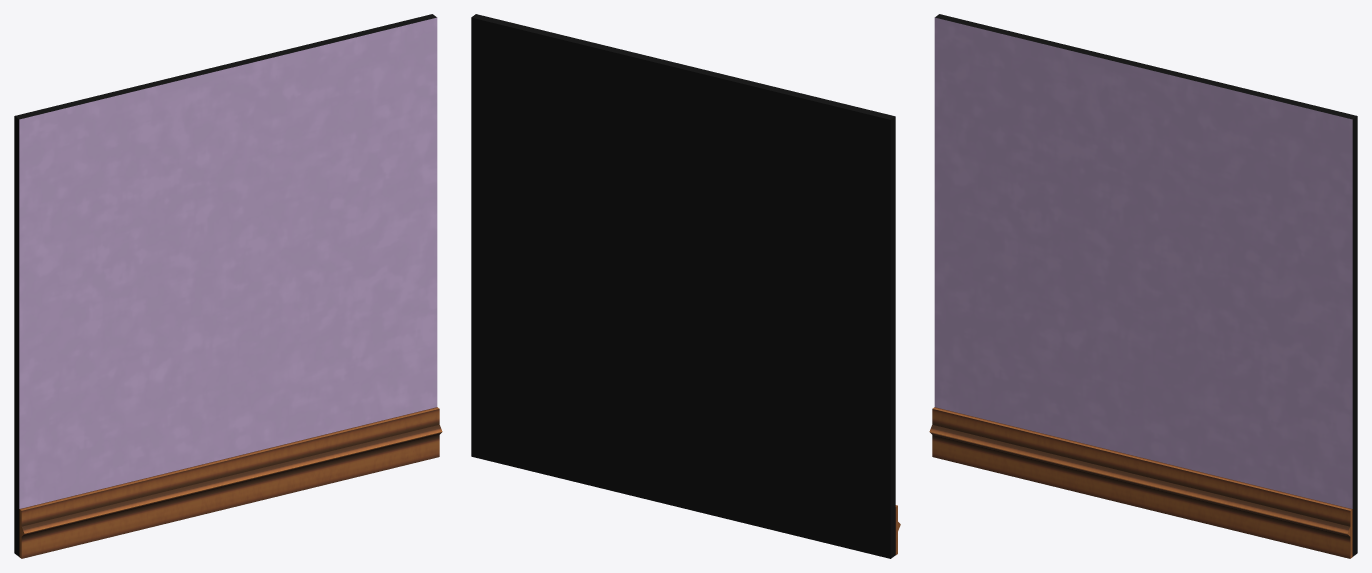
Rendered from Wall_C_02.FBX.
3 views of the same model, side by side, from view 1: azimuth 30°, elevation 25°; view 2: azimuth 150°, elevation 25°; view 3: azimuth 330°, elevation 25° (orthographic).
Visible parts, largest first — view 1: Wall_A_01; view 2: Wall_A_01; view 3: Wall_A_01.
Part boxes in pixels (left/top/right/bottom): Wall_A_01: left=14, top=14, right=442, bottom=558; Wall_A_01: left=471, top=14, right=900, bottom=558; Wall_A_01: left=929, top=14, right=1357, bottom=558.
Size of the model in its own units: 500 by 500 by 20.82.
